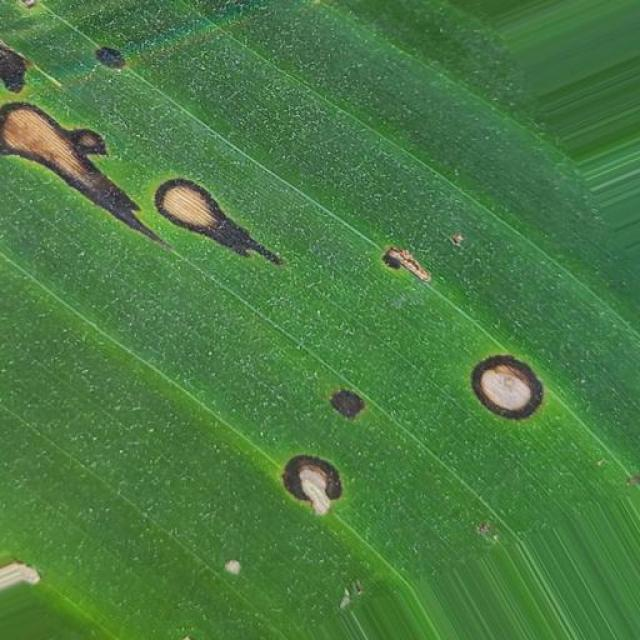Early_rust: (0, 21, 270, 270), (243, 373, 371, 527), (452, 331, 556, 447), (380, 225, 442, 289)
